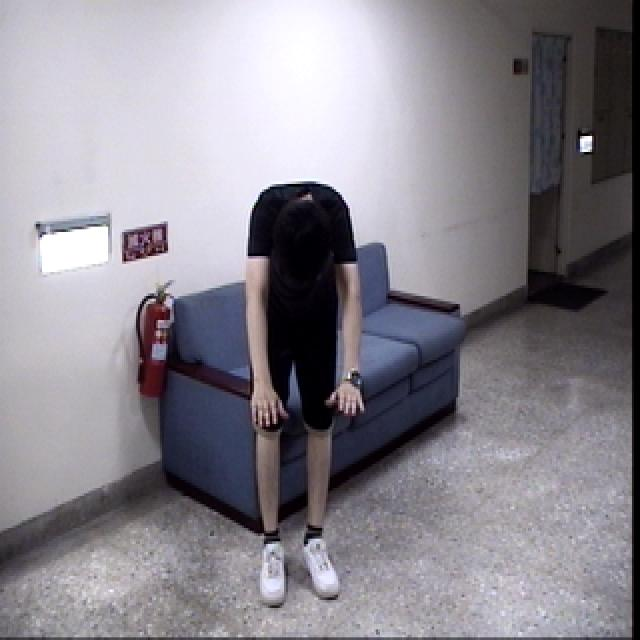bend: (237, 166, 382, 624)
